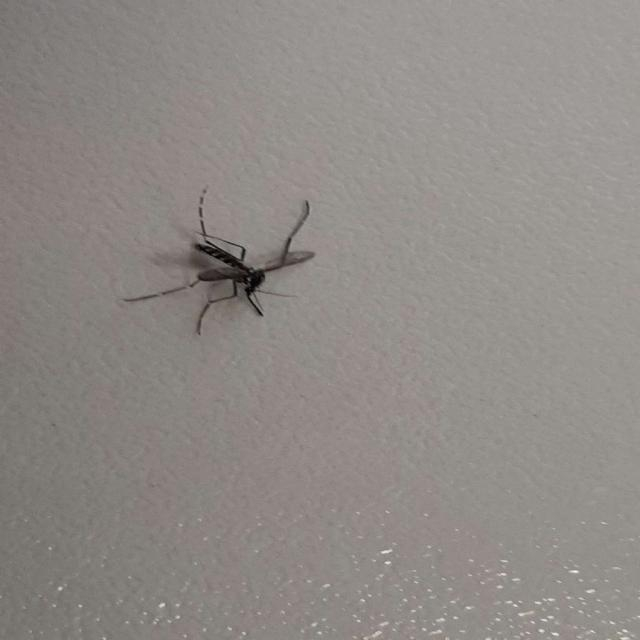albopictus: (113, 182, 325, 337)
